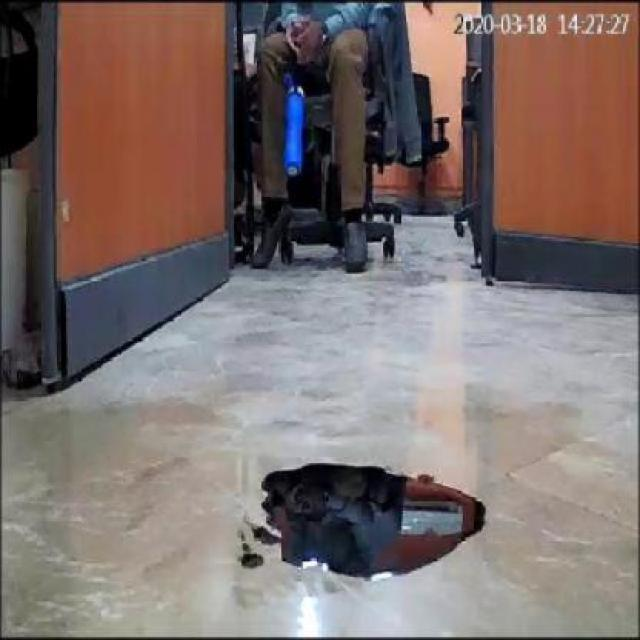spillage: (237, 457, 497, 580)
